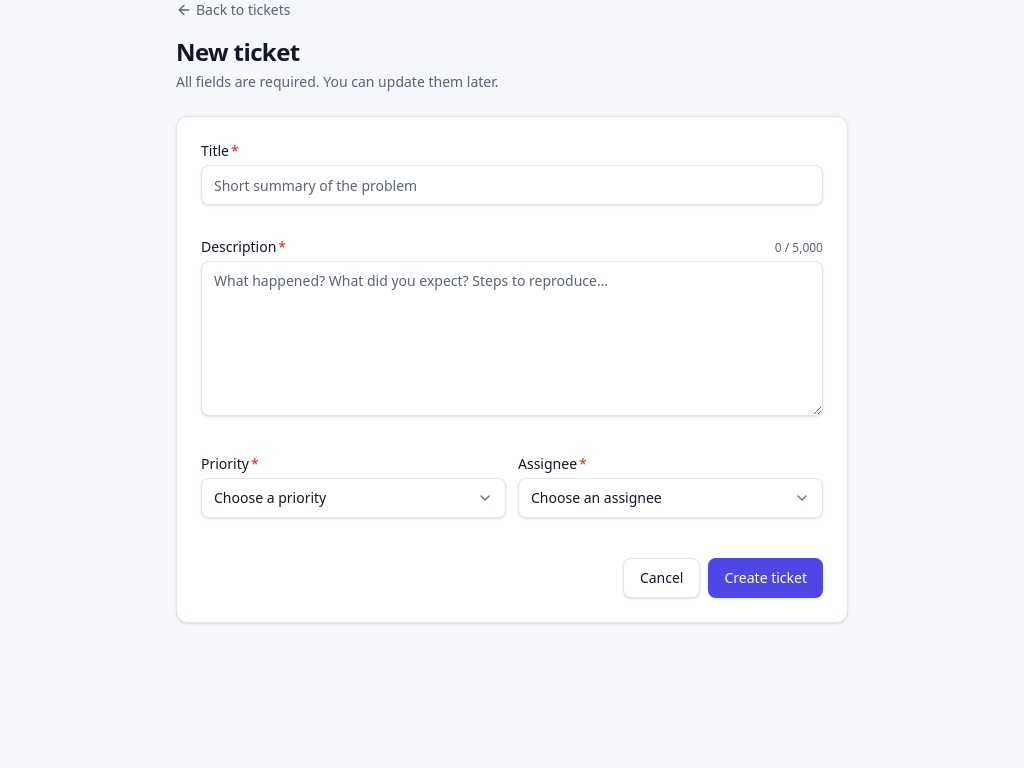
Test: Create ticket › shows backend field errors inline and in the modal
This screenshot has width=1024, height=768.
Type "Printer jam" into the field labelled "Title*".
click(512, 185); type("Printer jam")  # box left=201, top=165, right=823, bottom=205
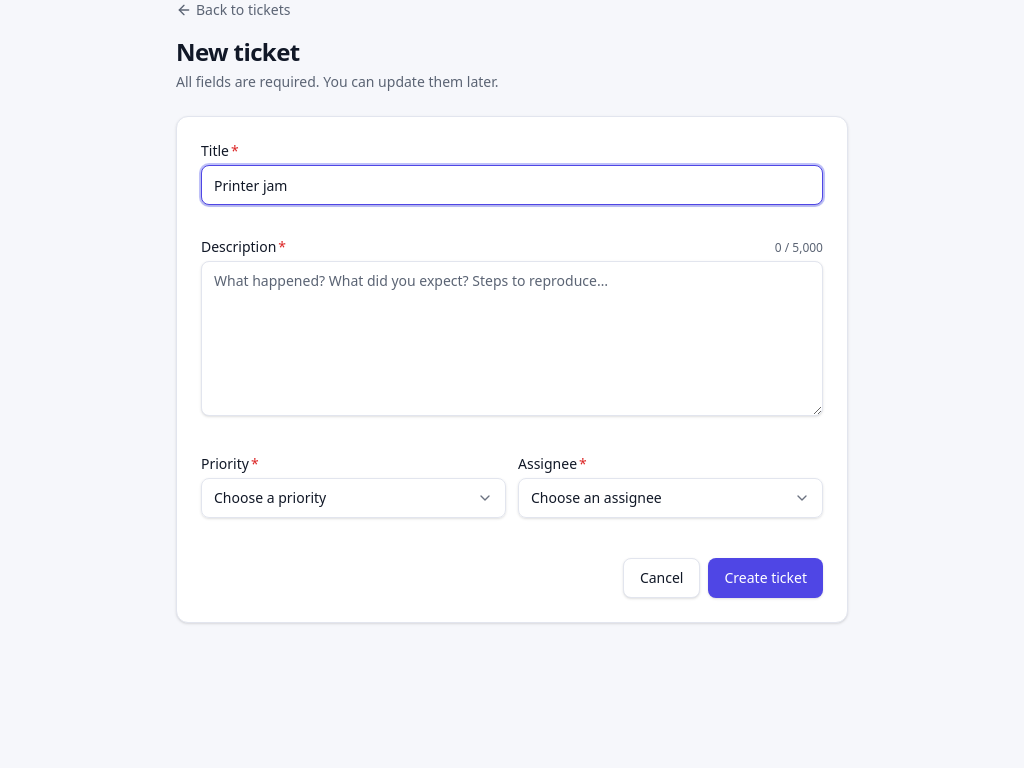
Type "Paper stuck in tray two" into the text box labelled "Description*".
click(512, 338); type("Paper stuck in tray two")  # box left=201, top=261, right=823, bottom=416
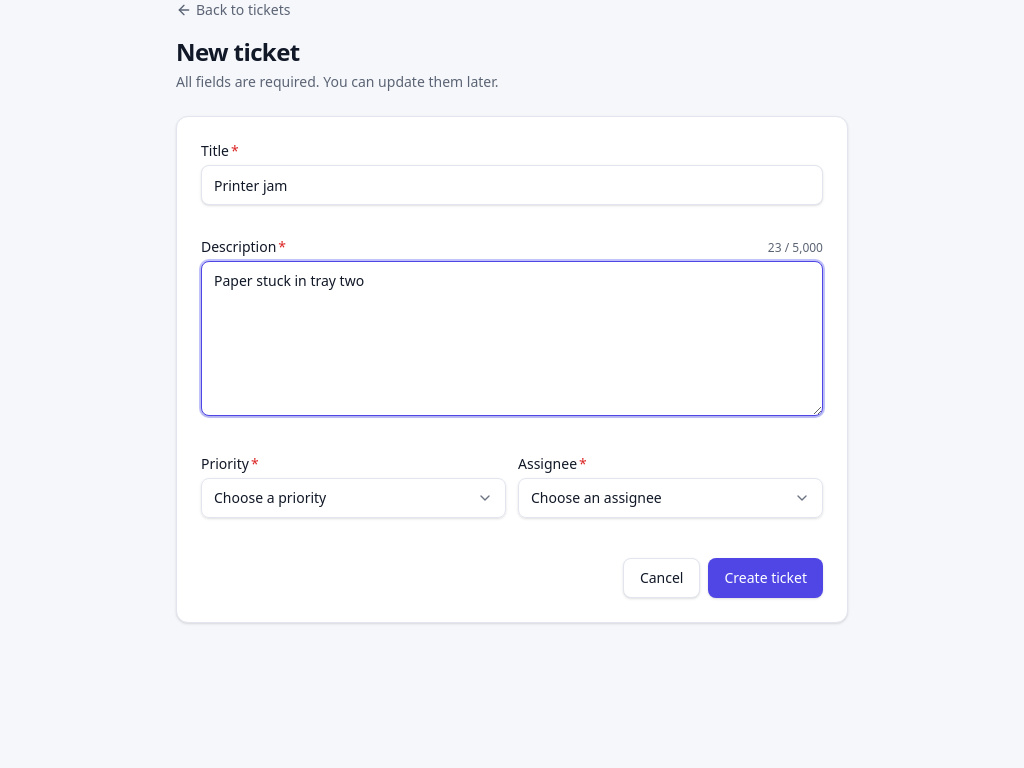
Select "High" in the dropdown labelled "Priority*" at (354, 498), box left=201, top=478, right=506, bottom=518
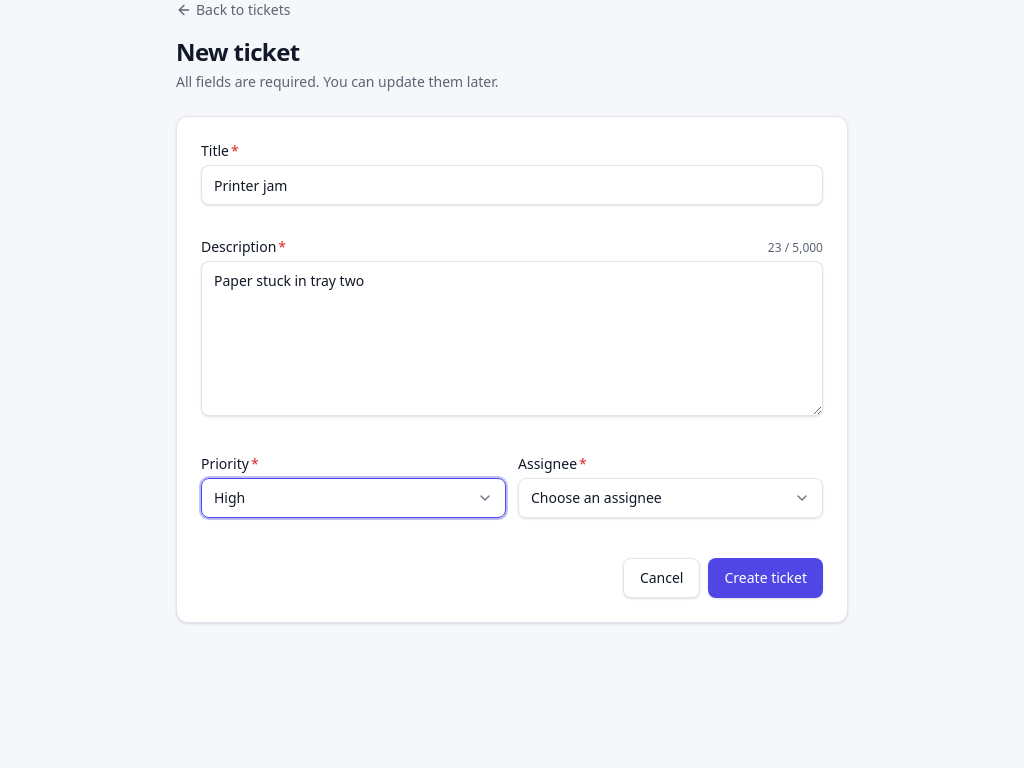
Select "Bob Singh" in the dropdown labelled "Assignee*" at (670, 498), box left=518, top=478, right=823, bottom=518
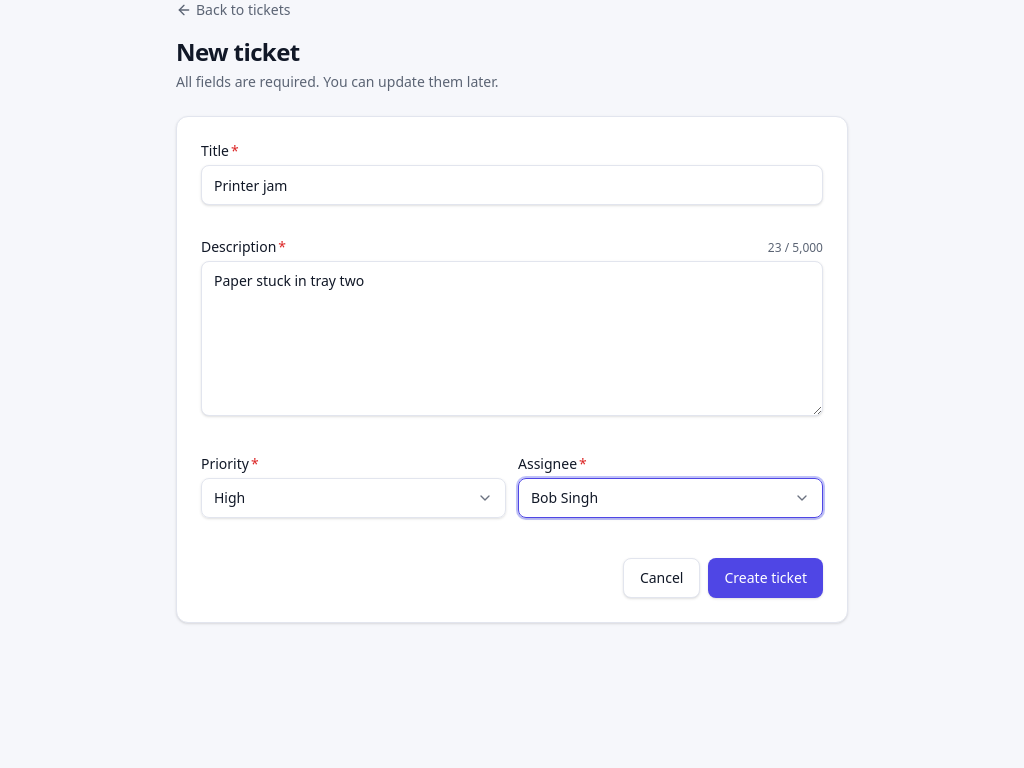
Click the button "Create ticket".
click(766, 578)  # box left=708, top=558, right=823, bottom=598
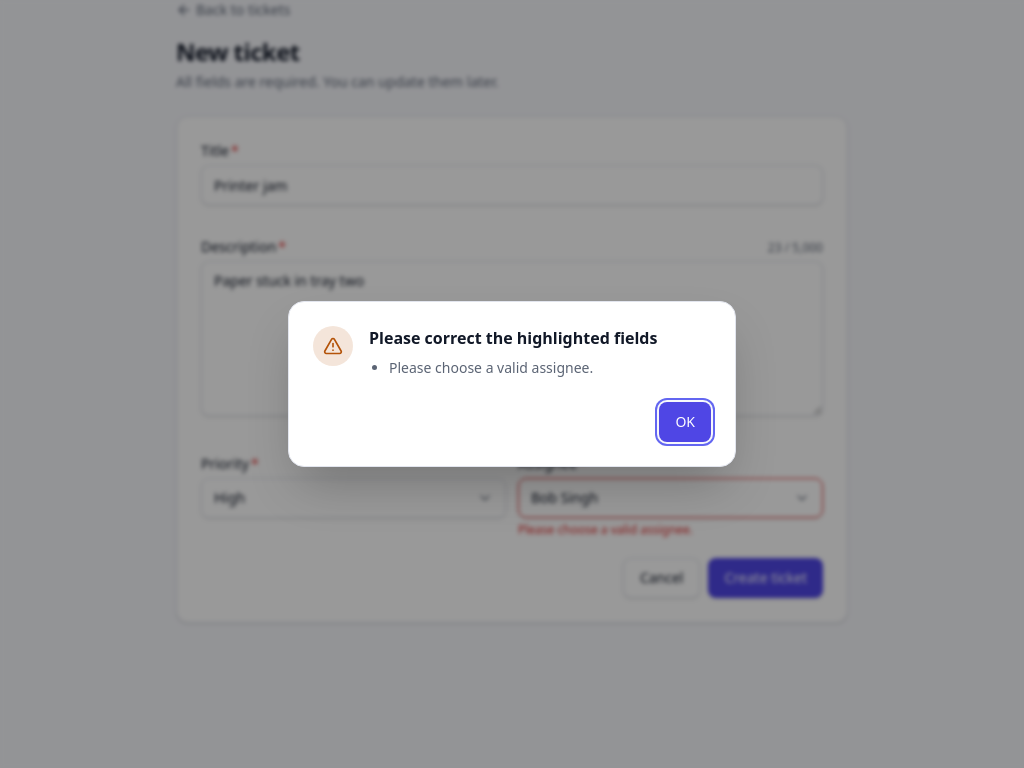
expect the dialog shows "Please choose a valid assignee.": met, box left=389, top=358, right=593, bottom=377
